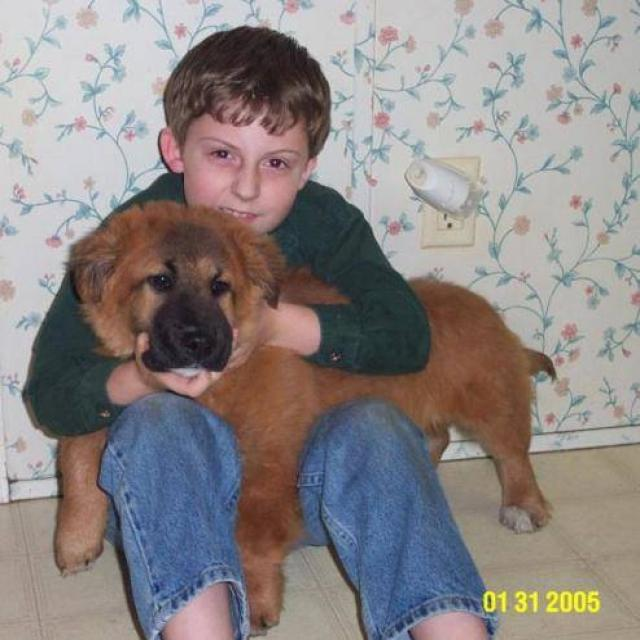dog: (64, 197, 557, 635)
